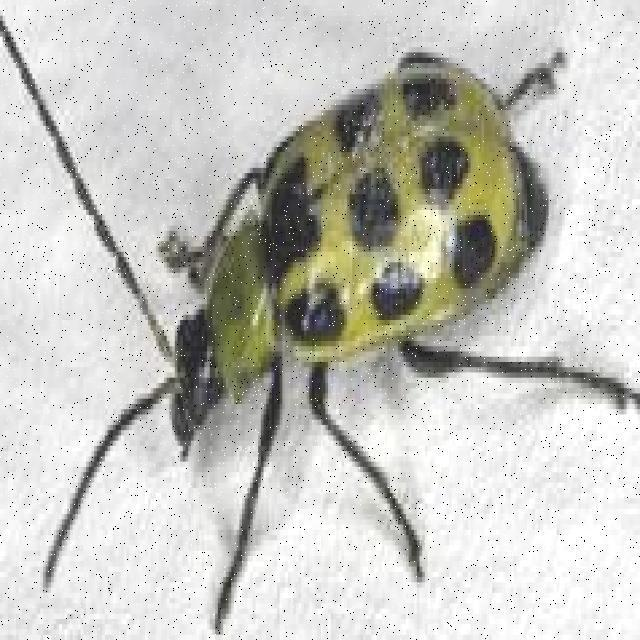gusano_verde: (0, 0, 634, 582)
